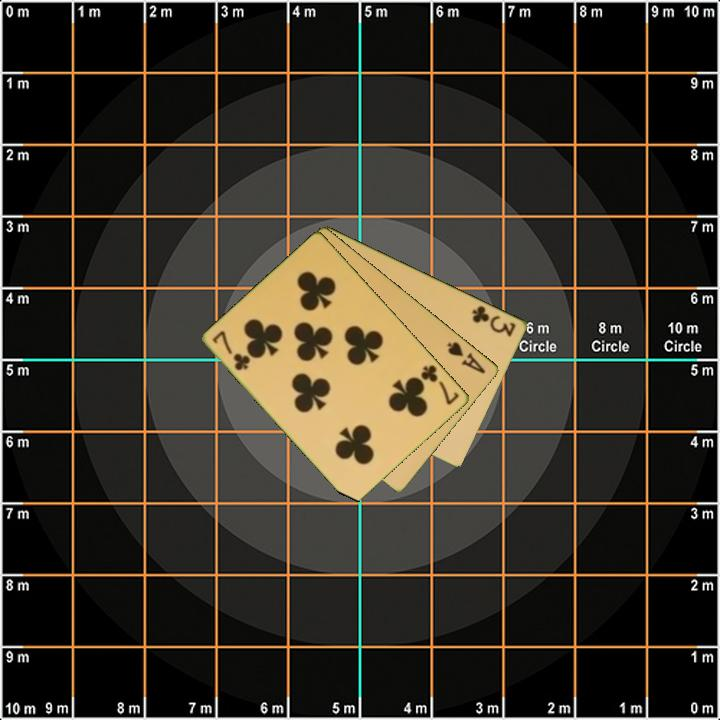3c: (468, 302, 519, 339)
7c: (417, 361, 462, 408), (209, 327, 254, 374)
As: (444, 338, 489, 377)
